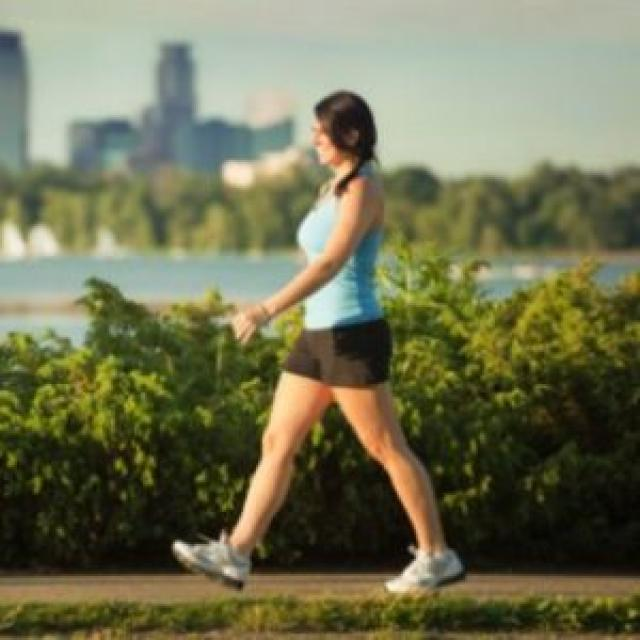nonfall: (173, 69, 476, 591)
